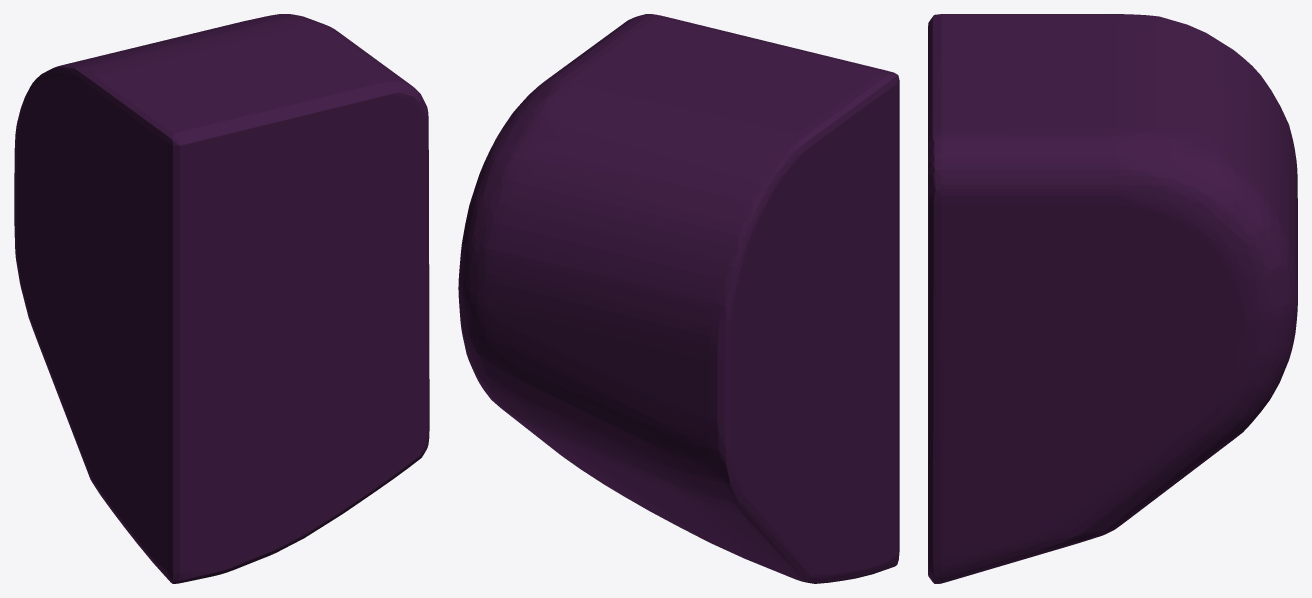
The model's file is right_palm_part_26.obj.
The picture shows the model from 3 angles, left to right: view 1: azimuth 30°, elevation 25°; view 2: azimuth 150°, elevation 25°; view 3: azimuth 270°, elevation 25°; orthographic projection. The views are drawn at different scales.
Size of the model in its own units: 21.72 by 35.89 by 23.58.
